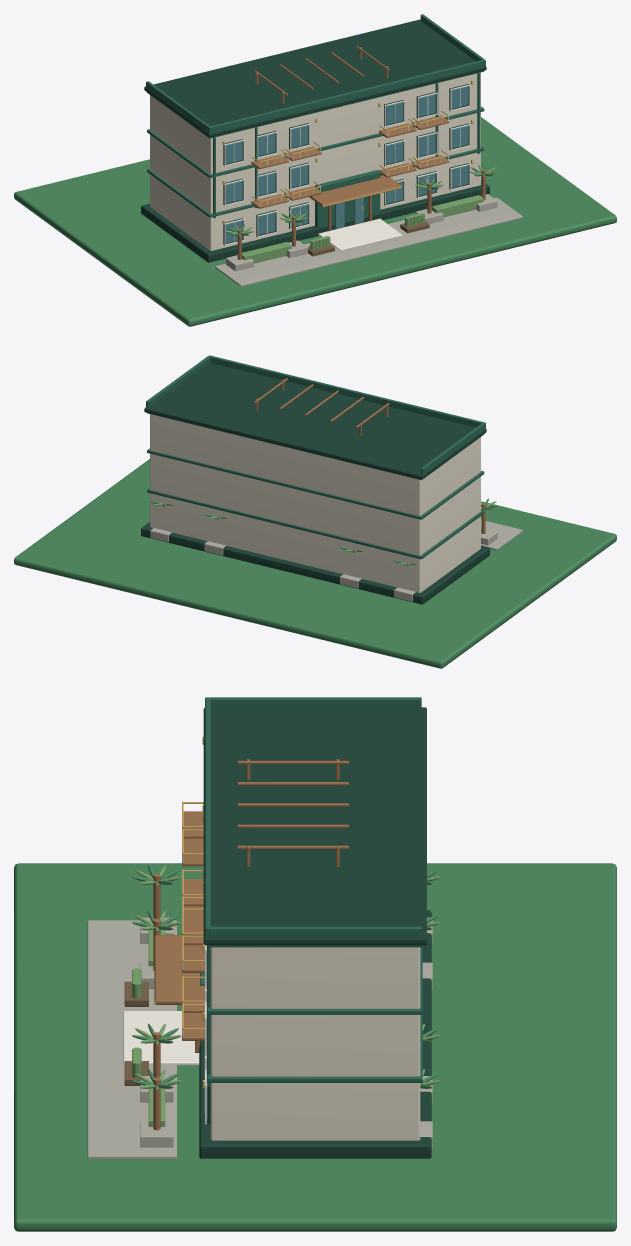
File: verde-haven-hotel.glb
3 views of the same model, one above another, from view 1: azimuth 30°, elevation 25°; view 2: azimuth 150°, elevation 25°; view 3: azimuth 270°, elevation 25° (orthographic). The views are drawn at different scales.
Visible parts, largest first — view 1: Landscaped Site, Flat Roof Slab, Third Floor Walls, Second Floor Walls, Ground Floor Walls, Stone Arrival Drive, Main Foundation, Roof Front Parapet, Entrance Feature Portal, Front Entrance Walk, Entrance Timber Canopy, Continuous Forest Green Floor Band.001 (+6 smaller); view 2: Landscaped Site, Flat Roof Slab, Third Floor Walls, Second Floor Walls, Ground Floor Walls, Main Foundation, Roof Front Parapet, Continuous Forest Green Floor Band.001, Continuous Forest Green Floor Band, Roof Left Parapet, Stone Arrival Drive, Roof Right Parapet; view 3: Landscaped Site, Flat Roof Slab, Second Floor Walls, Third Floor Walls, Stone Arrival Drive, Ground Floor Walls, Main Foundation, Front Entrance Walk, Roof Right Parapet, Roof Left Parapet, Entrance Timber Canopy, Continuous Forest Green Floor Band (+3 smaller).
Boxes of the visible parts, x1,y1,x2,y2 form: Landscaped Site: (14, 117, 616, 326); Flat Roof Slab: (144, 19, 486, 137); Third Floor Walls: (150, 72, 480, 174); Second Floor Walls: (150, 112, 480, 213); Ground Floor Walls: (150, 151, 480, 250); Stone Arrival Drive: (215, 197, 522, 286); Main Foundation: (141, 180, 489, 262); Roof Front Parapet: (208, 59, 485, 133); Entrance Feature Portal: (315, 170, 380, 228); Front Entrance Walk: (318, 218, 402, 250); Entrance Timber Canopy: (309, 175, 401, 206); Continuous Forest Green Floor Band.001: (147, 106, 484, 177); Landscaped Site: (14, 459, 616, 668); Flat Roof Slab: (144, 363, 486, 479); Third Floor Walls: (150, 414, 480, 516); Second Floor Walls: (150, 453, 480, 555); Ground Floor Walls: (150, 493, 480, 592); Main Foundation: (141, 522, 489, 604); Roof Front Parapet: (208, 355, 485, 428); Continuous Forest Green Floor Band.001: (147, 448, 484, 519); Continuous Forest Green Floor Band: (147, 488, 484, 559); Roof Left Parapet: (420, 423, 484, 474); Stone Arrival Drive: (481, 519, 522, 550); Roof Right Parapet: (146, 356, 210, 407); Landscaped Site: (14, 863, 616, 1231); Flat Roof Slab: (203, 707, 426, 945); Second Floor Walls: (210, 1015, 420, 1076); Third Floor Walls: (210, 947, 420, 1008); Stone Arrival Drive: (87, 920, 176, 1158); Ground Floor Walls: (210, 1083, 420, 1140); Main Foundation: (199, 910, 431, 1158); Front Entrance Walk: (123, 1011, 199, 1065); Roof Right Parapet: (209, 926, 421, 938); Roof Left Parapet: (210, 697, 421, 709); Entrance Timber Canopy: (154, 935, 200, 1004); Continuous Forest Green Floor Band: (207, 1015, 422, 1082).
Bounding box in the file's own units: 38 × 12.4 × 27.
